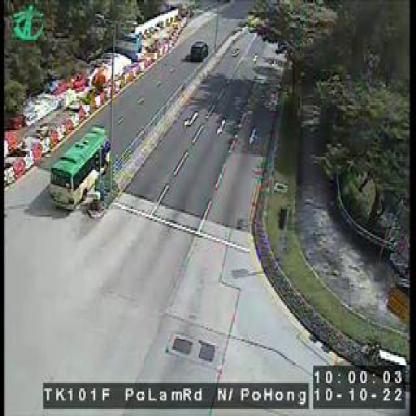Car: (192, 41, 210, 62)
Minibus: (46, 125, 114, 213)
